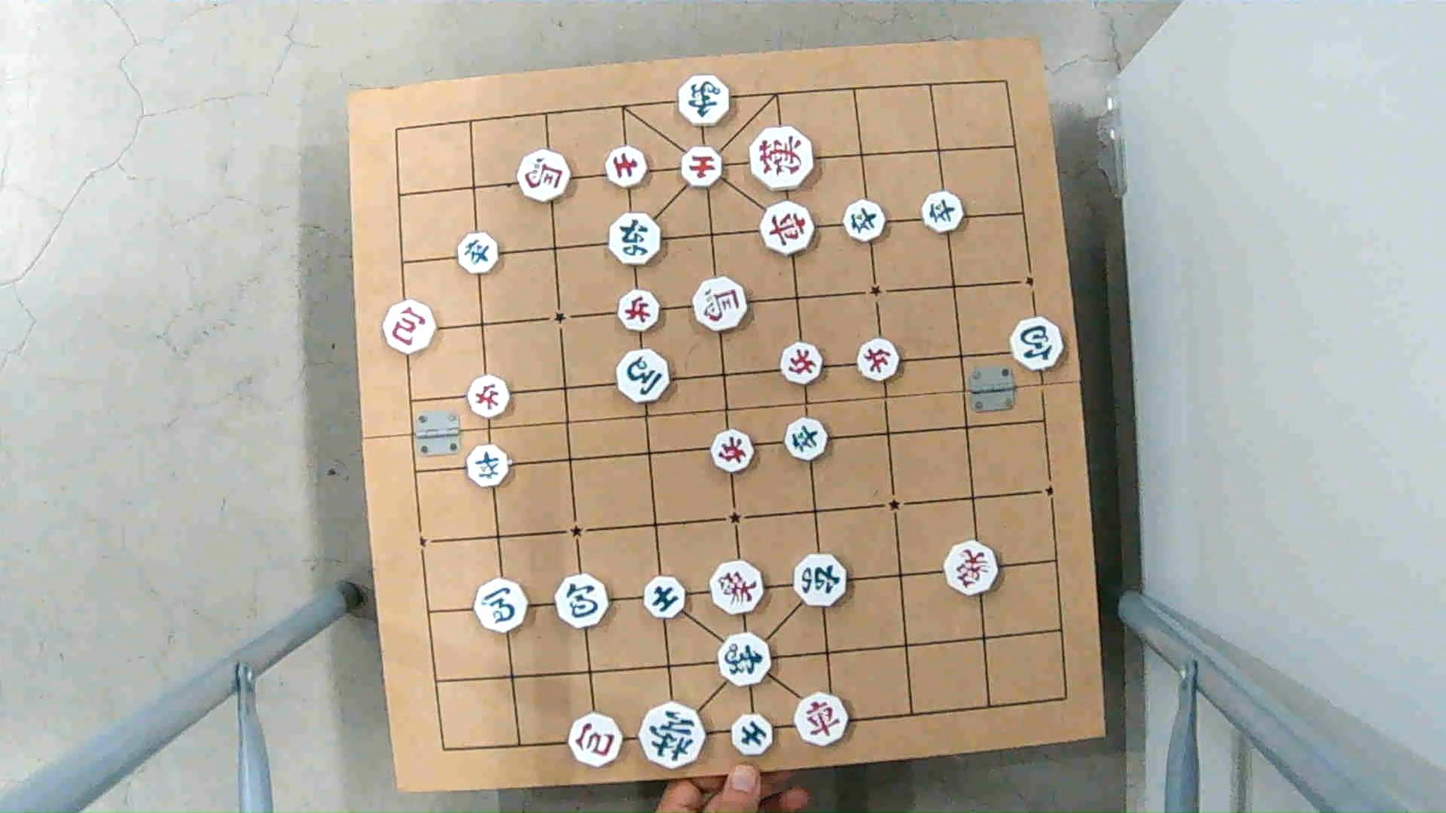cha_green: (792, 553, 849, 604), (609, 214, 665, 263)
cha_red: (758, 204, 815, 254), (792, 695, 848, 744)
jol_green: (464, 445, 511, 484), (844, 202, 889, 242), (783, 421, 828, 460), (457, 236, 502, 274), (920, 192, 964, 230)
jol_red: (615, 289, 664, 328), (710, 433, 758, 472), (854, 340, 901, 379), (466, 378, 514, 416), (780, 345, 826, 383)
ma_green: (615, 351, 672, 401), (474, 583, 532, 632)
ma_red: (516, 153, 572, 200), (695, 277, 745, 329)
po_green: (555, 575, 612, 625), (1009, 319, 1066, 369)
po_red: (380, 302, 439, 352), (571, 714, 623, 765)
sa_green: (641, 580, 687, 620), (729, 715, 774, 754)
sa_red: (680, 149, 726, 187), (603, 148, 648, 186)
sang_green: (718, 635, 770, 685), (681, 78, 730, 123)
sang_red: (942, 545, 1000, 594), (709, 562, 767, 611)
wang_green: (642, 706, 703, 766)
wang_red: (746, 129, 813, 186)
